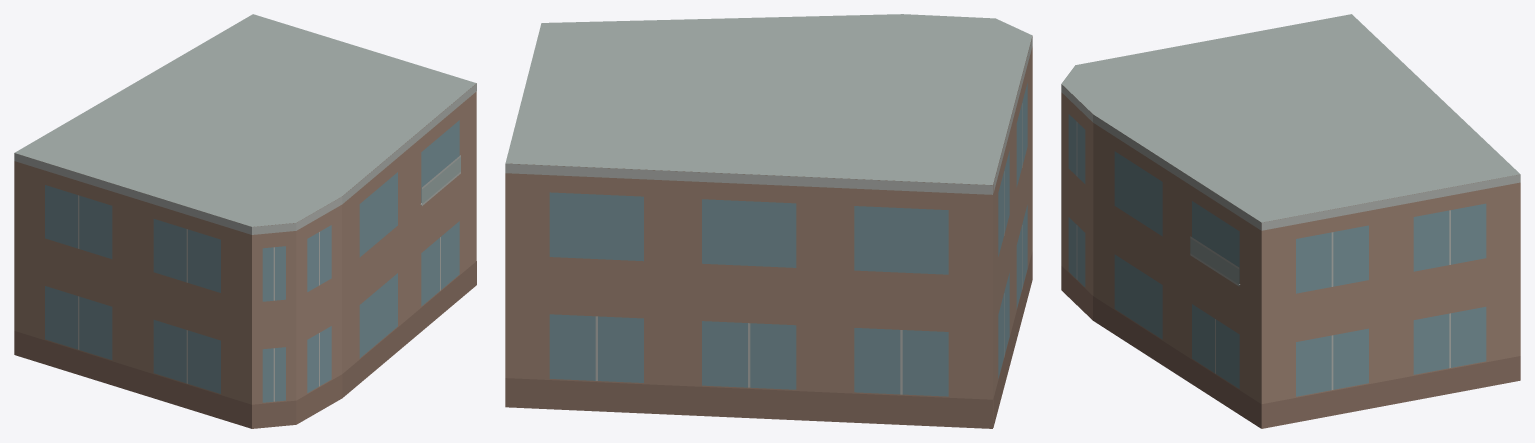
Rendered from survey-upis-32660522.glb.
3 views of the same model, side by side, from view 1: azimuth 30°, elevation 25°; view 2: azimuth 150°, elevation 25°; view 3: azimuth 270°, elevation 25° (orthographic). The views are drawn at different scales.
Visible parts, largest first — view 1: survey-upis-32660522.tmp; view 2: survey-upis-32660522.tmp; view 3: survey-upis-32660522.tmp.
Part boxes in pixels (bbox=[...]): survey-upis-32660522.tmp: bbox=[14, 14, 476, 428]; survey-upis-32660522.tmp: bbox=[505, 14, 1032, 428]; survey-upis-32660522.tmp: bbox=[1061, 14, 1520, 428].
Size of the model in its own units: 13.23 by 6.1 by 12.32.
